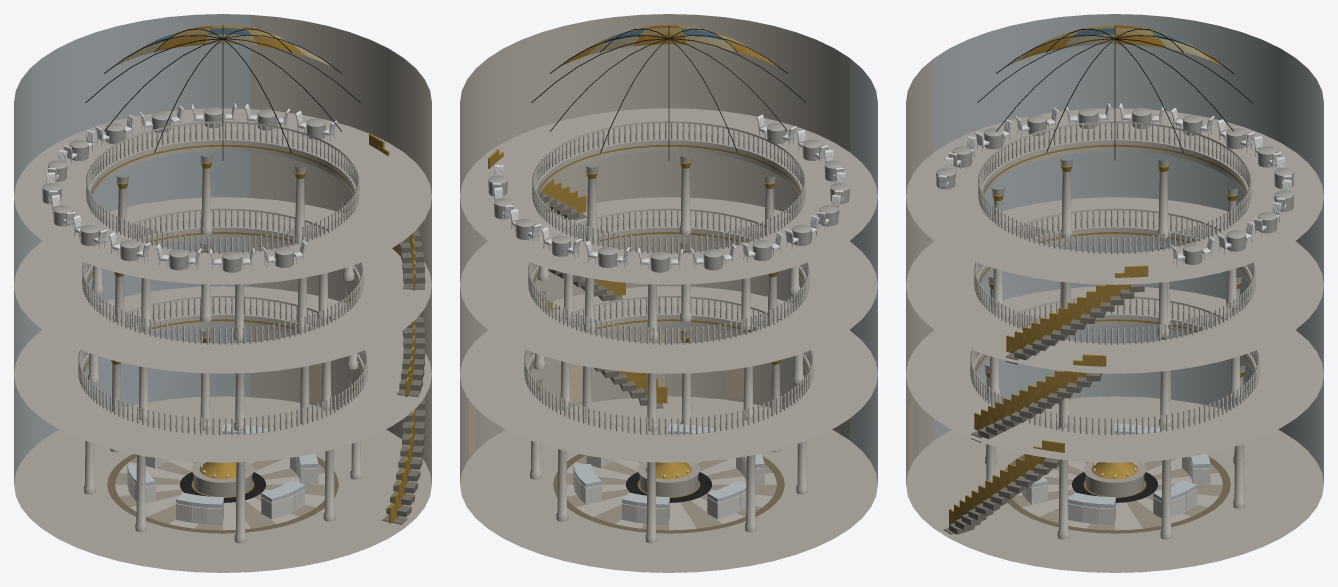
File: neiman_int.glb
3 renders of one model, left to right at view 1: azimuth 30°, elevation 25°; view 2: azimuth 150°, elevation 25°; view 3: azimuth 270°, elevation 25°, orthographic.
Visible parts, largest first — view 1: I_x_marble_white, I_x_plaster, I_glassI, I_metal, I_x_velvet, I_x_gold, I_p_dining_chair_02__0, I_stained, I_paint, I_lampI; view 2: I_x_marble_white, I_x_plaster, I_glassI, I_x_velvet, I_x_gold, I_metal, I_p_dining_chair_02__0, I_stained, I_paint, I_lampI; view 3: I_x_marble_white, I_glassI, I_x_plaster, I_x_gold, I_metal, I_x_velvet, I_p_dining_chair_02__0, I_stained, I_paint.
Part boxes in pixels (left/top/right/bottom): I_x_marble_white: left=14, top=108, right=431, bottom=572; I_x_plaster: left=78, top=14, right=431, bottom=543; I_glassI: left=14, top=14, right=318, bottom=508; I_metal: left=85, top=25, right=425, bottom=524; I_x_velvet: left=42, top=107, right=325, bottom=272; I_x_gold: left=83, top=133, right=415, bottom=523; I_p_dining_chair_02__0: left=46, top=103, right=337, bottom=270; I_stained: left=114, top=25, right=332, bottom=67; I_paint: left=127, top=456, right=318, bottom=524; I_lampI: left=180, top=363, right=422, bottom=508; I_x_marble_white: left=460, top=108, right=877, bottom=572; I_x_plaster: left=460, top=14, right=849, bottom=543; I_glassI: left=573, top=58, right=877, bottom=508; I_x_velvet: left=488, top=123, right=849, bottom=272; I_x_gold: left=488, top=144, right=808, bottom=479; I_metal: left=531, top=25, right=806, bottom=408; I_p_dining_chair_02__0: left=492, top=114, right=845, bottom=270; I_stained: left=559, top=25, right=777, bottom=67; I_paint: left=573, top=455, right=764, bottom=524; I_lampI: left=469, top=332, right=807, bottom=508; I_x_marble_white: left=906, top=108, right=1323, bottom=572; I_glassI: left=934, top=14, right=1323, bottom=508; I_x_plaster: left=906, top=58, right=1259, bottom=539; I_x_gold: left=949, top=144, right=1254, bottom=524; I_metal: left=943, top=25, right=1252, bottom=534; I_x_velvet: left=936, top=107, right=1293, bottom=264; I_p_dining_chair_02__0: left=938, top=103, right=1291, bottom=266; I_stained: left=1006, top=25, right=1223, bottom=66; I_paint: left=1021, top=457, right=1210, bottom=524.
Size of the model in its own units: 21.3 by 25.35 by 21.3.
